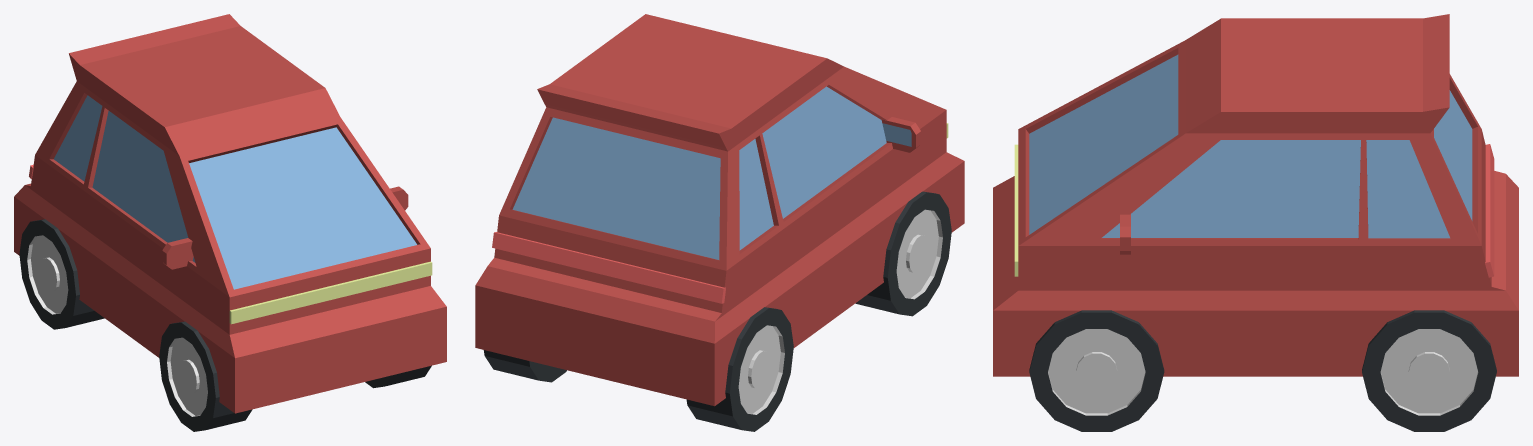
File: car-3.glb
The picture shows the model from 3 angles, left to right: view 1: azimuth 30°, elevation 25°; view 2: azimuth 150°, elevation 25°; view 3: azimuth 270°, elevation 25°; orthographic projection. The views are drawn at different scales.
Parts seen in each view (by area): view 1: Cube, Cylinder.001, Cylinder.002, Cube.001, Cube.002; view 2: Cube, Cylinder.002, Cylinder.001, Cube.003, Cube.002; view 3: Cube, Cylinder.002, Cylinder.001, Cube.003, Cube.001.
Boxes of the visible parts, x1=… form: Cube: x1=14, y1=14, x2=446, y2=413; Cylinder.001: x1=159, y1=321, x2=431, y2=431; Cylinder.002: x1=19, y1=219, x2=104, y2=329; Cube.001: x1=229, y1=261, x2=432, y2=324; Cube.002: x1=162, y1=186, x2=408, y2=269; Cube: x1=475, y1=14, x2=964, y2=406; Cylinder.002: x1=483, y1=307, x2=793, y2=431; Cylinder.001: x1=855, y1=191, x2=951, y2=316; Cube.003: x1=492, y1=232, x2=725, y2=303; Cube.002: x1=881, y1=117, x2=920, y2=152; Cube: x1=993, y1=14, x2=1518, y2=376; Cylinder.002: x1=1362, y1=310, x2=1496, y2=431; Cylinder.001: x1=1029, y1=310, x2=1164, y2=431; Cube.003: x1=1485, y1=144, x2=1494, y2=277; Cube.001: x1=1014, y1=144, x2=1018, y2=276.
Bounding box in the file's own units: 2.4 × 2.45 × 3.8.
